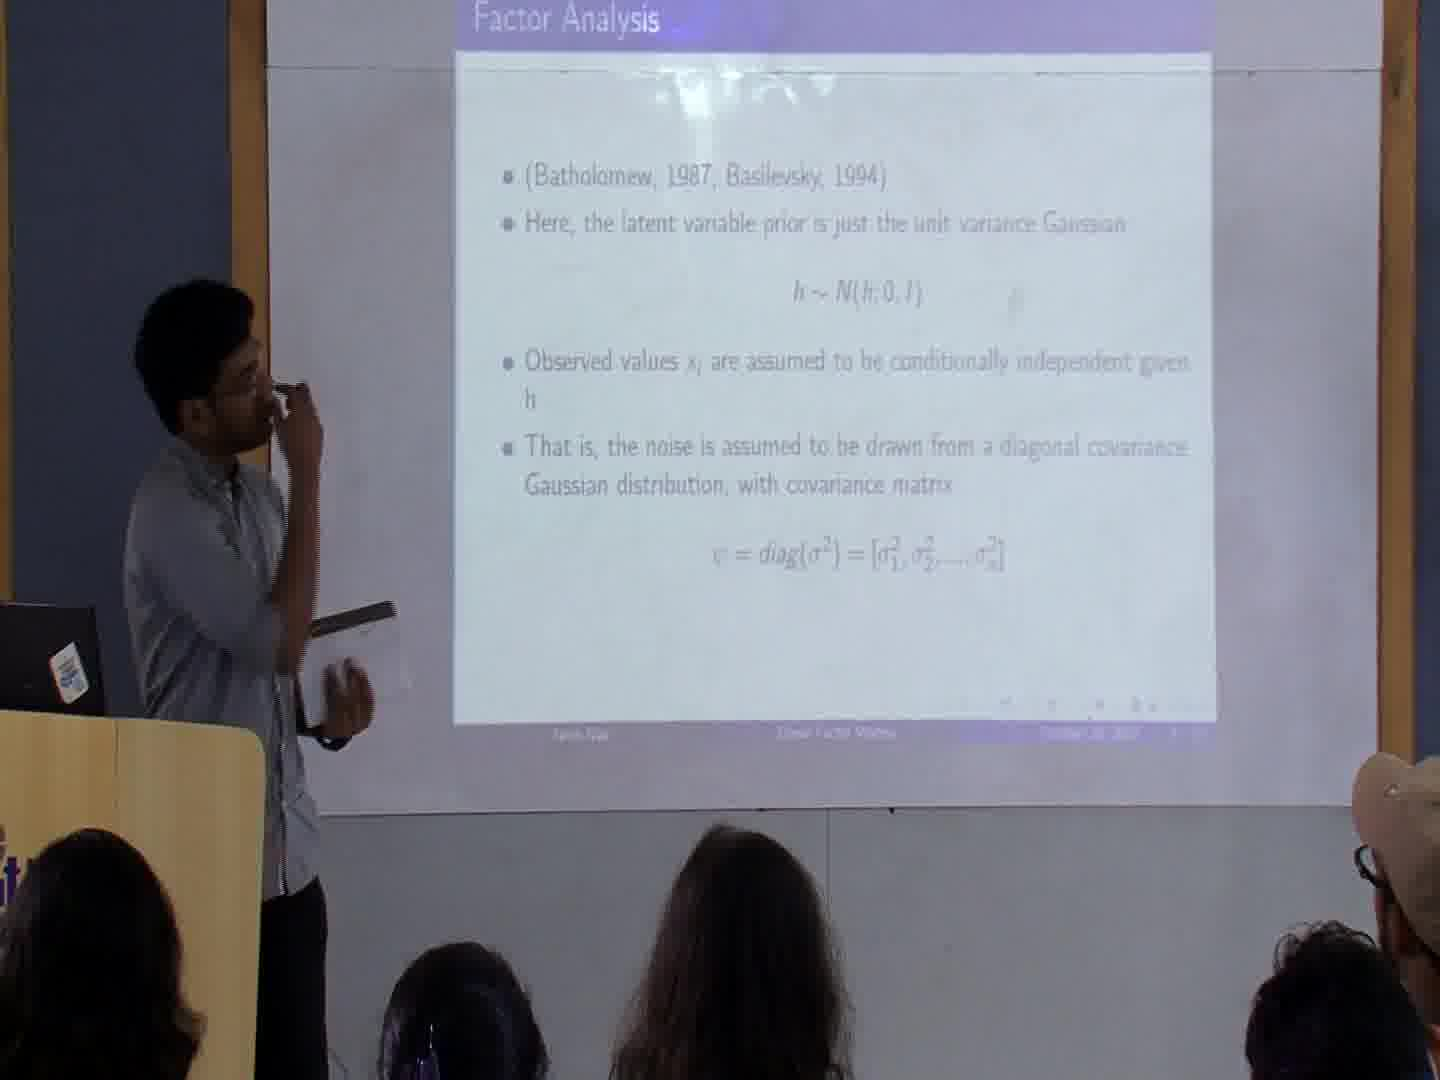eq: (703, 526, 1013, 577), (788, 275, 927, 310)
